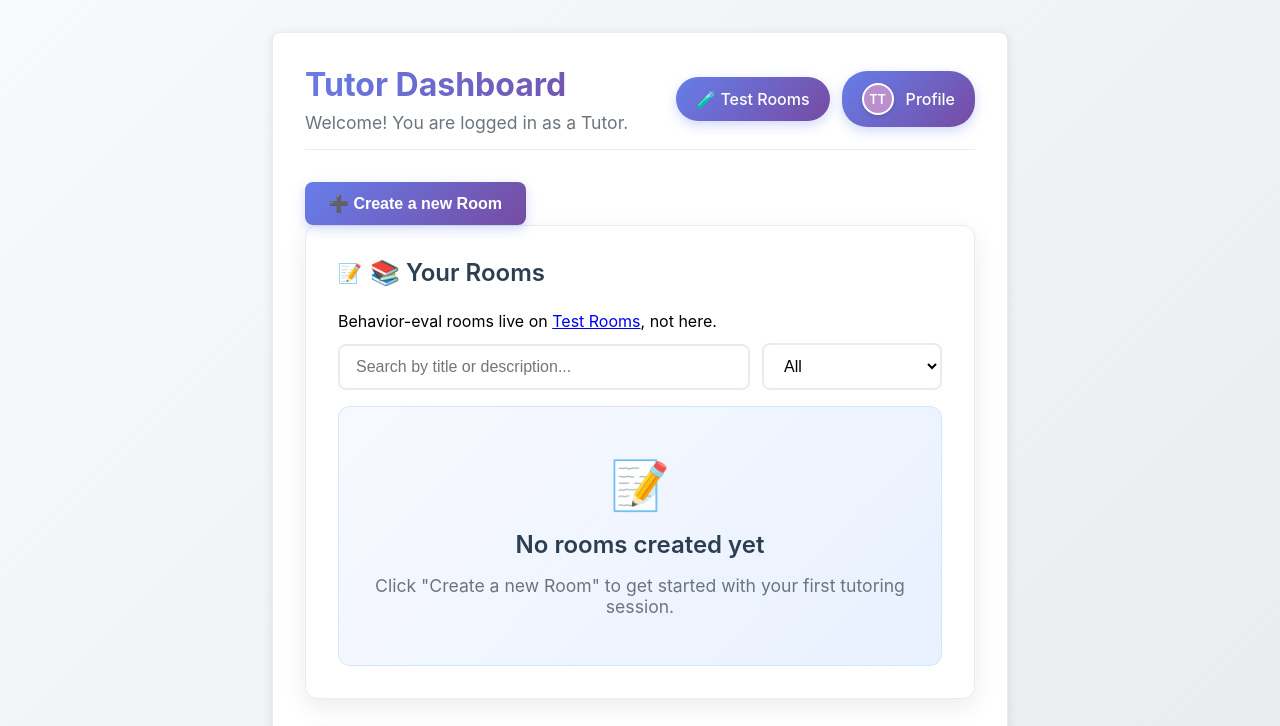
Scenario: Room Template Management › Template Selection › should not show "Save as template" controls in room creation form
Click the button "➕ Create a new Room".
click(415, 204)  # box [305, 182, 526, 225]
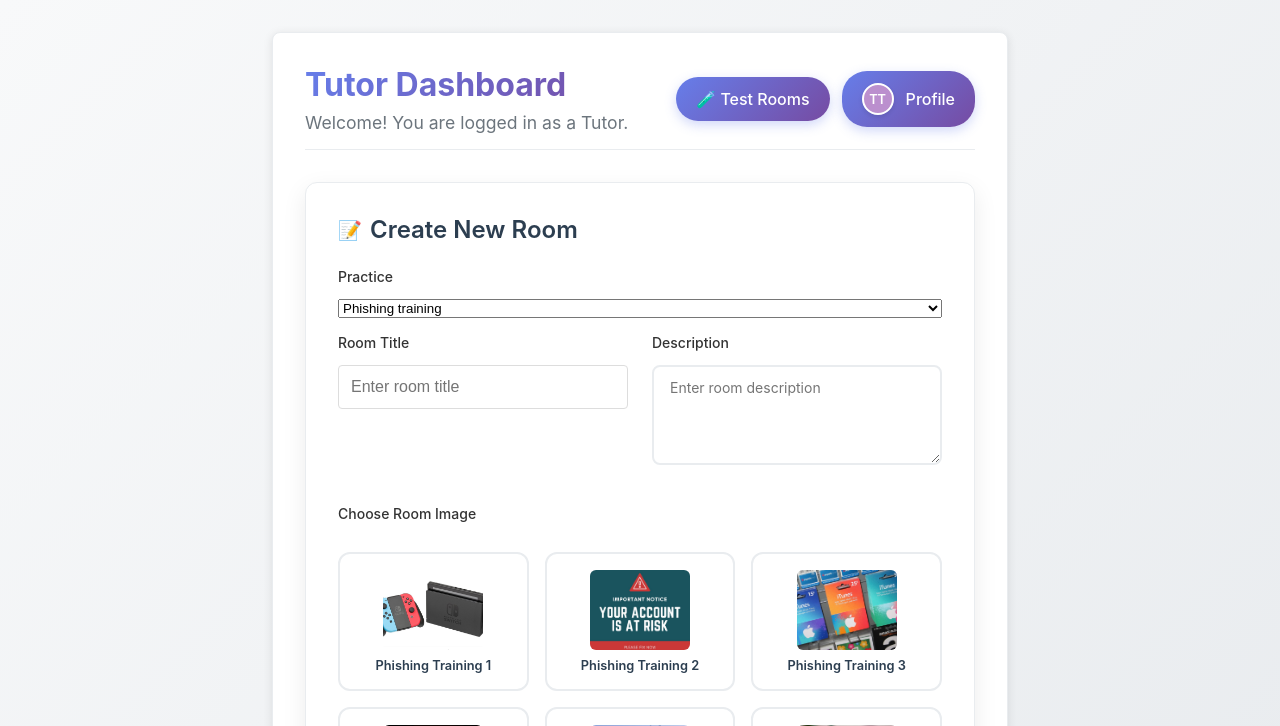
Expected: the field labelled "Room Title" is shown, [338, 365, 628, 409]
